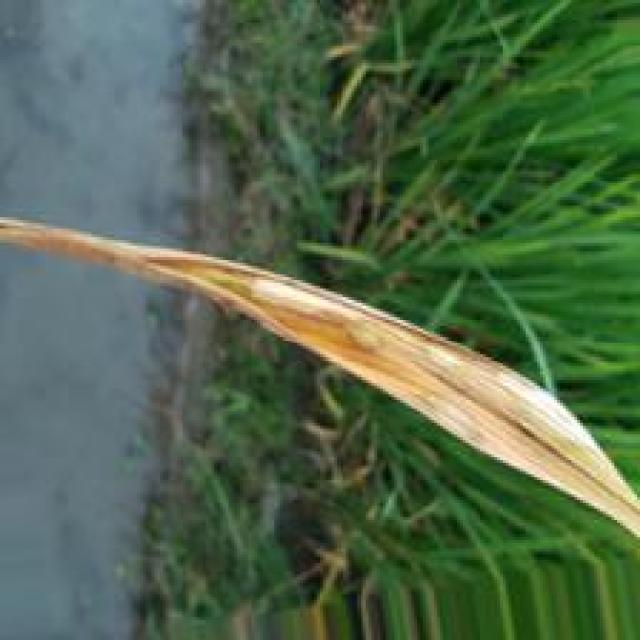Leaf_Scald: (78, 236, 638, 533)
